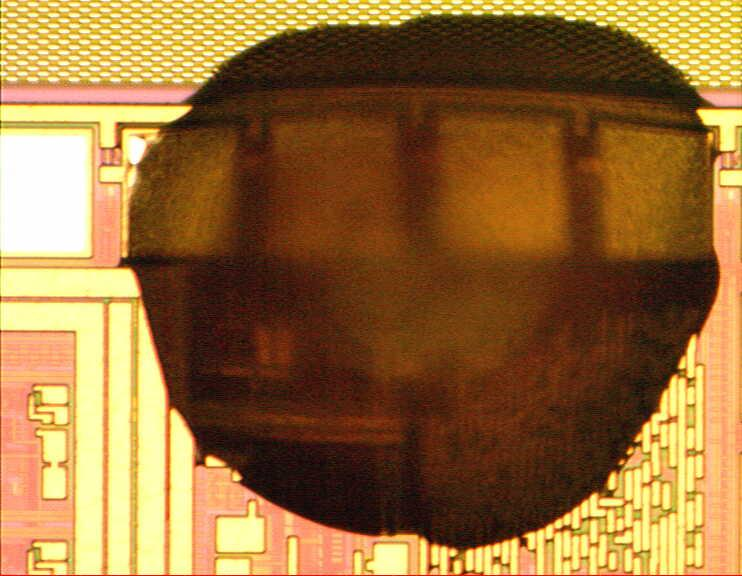PO CONTAMINATION: (121, 6, 737, 555)
